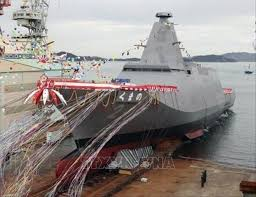tau_muctieu: (47, 27, 240, 138)
